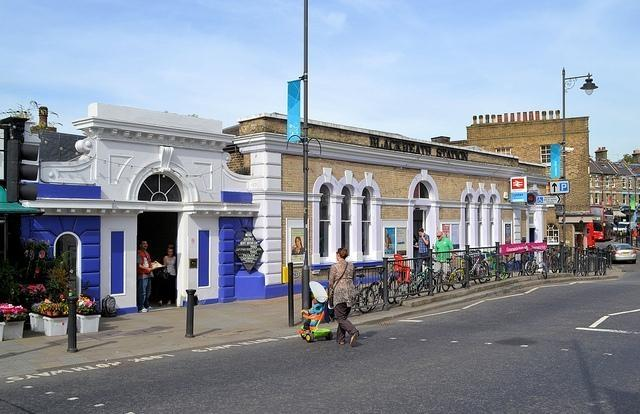bicycle: (370, 262, 404, 310), (394, 264, 436, 302), (352, 274, 376, 314), (497, 252, 524, 280), (468, 249, 489, 284), (449, 254, 467, 290), (430, 269, 451, 293), (481, 250, 497, 276), (546, 248, 559, 274), (595, 252, 607, 275), (524, 258, 539, 275), (579, 254, 589, 277), (542, 266, 547, 278)
bus: (590, 205, 614, 240), (588, 222, 596, 248)
car: (601, 244, 637, 264)
